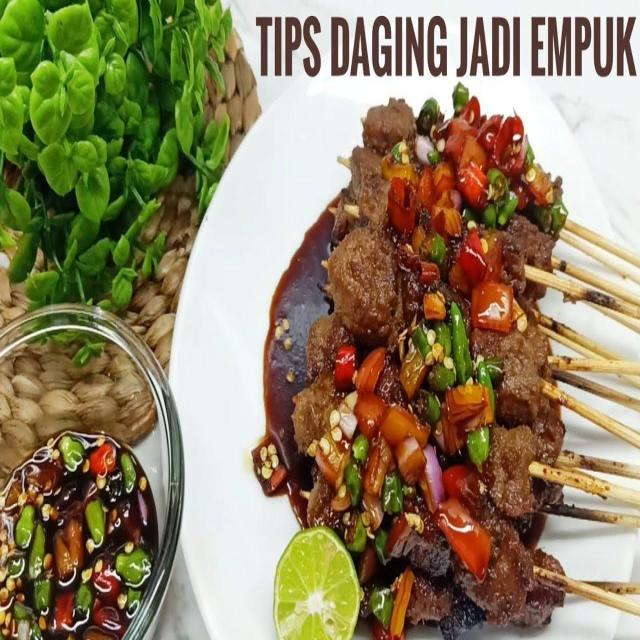Sate: (312, 81, 632, 635)
